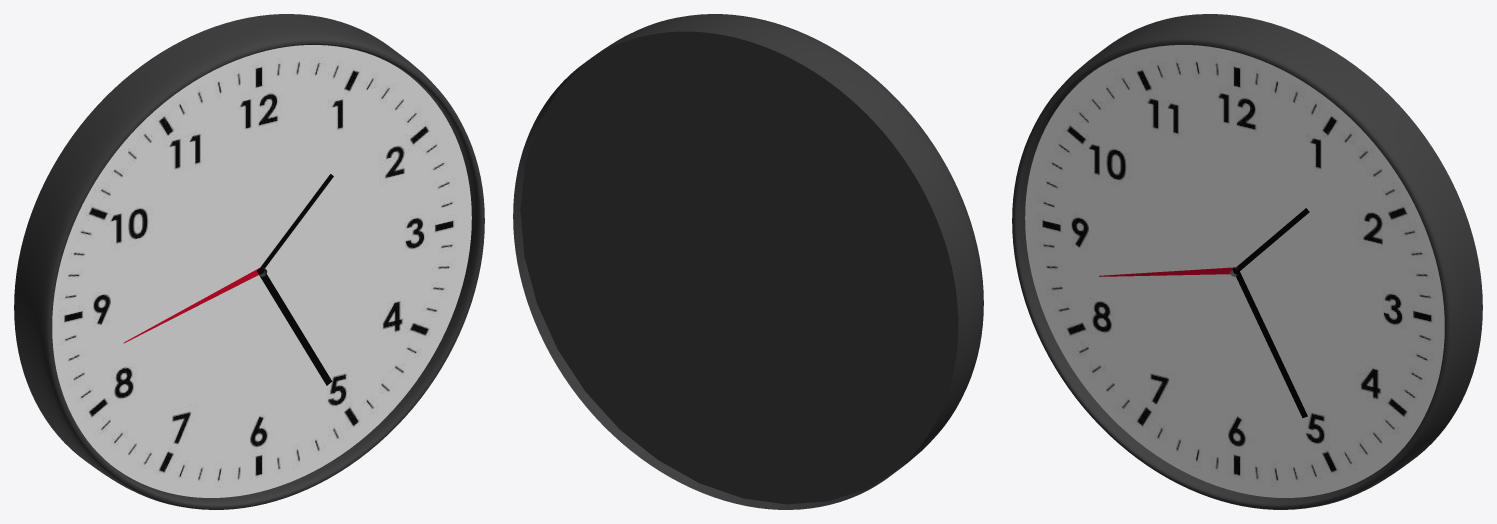
File: clock.glb
The picture shows the model from 3 angles, left to right: view 1: azimuth 30°, elevation 25°; view 2: azimuth 150°, elevation 25°; view 3: azimuth 330°, elevation 25°; orthographic projection.
Parts seen in each view (by area): view 1: Cylinder.002; view 2: Cylinder.002; view 3: Cylinder.002.
Boxes of the visible parts, x1,y1,x2,y2 form: Cylinder.002: [14, 14, 484, 509]; Cylinder.002: [513, 14, 983, 509]; Cylinder.002: [1012, 14, 1482, 509].
Bounding box in the file's own units: 1.99 × 1.99 × 0.2341.
5 materials, 1 textured.
